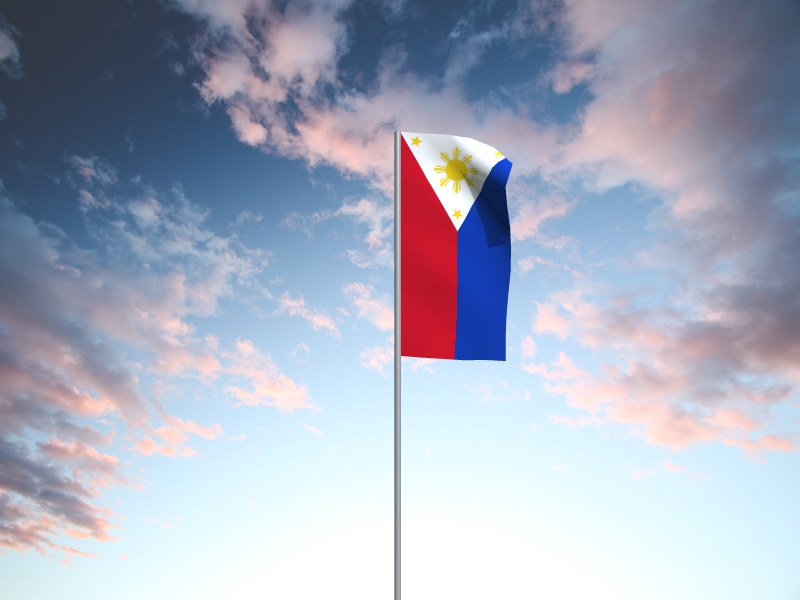ph: (402, 133, 514, 362)
